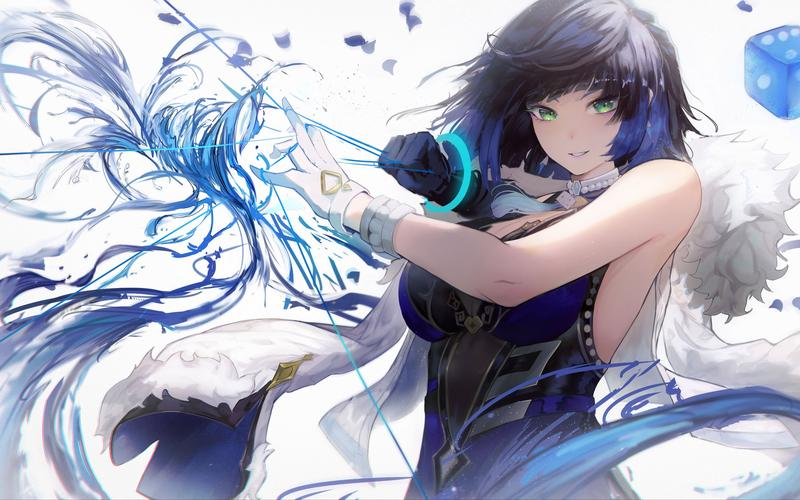夜兰: (245, 1, 707, 500)
